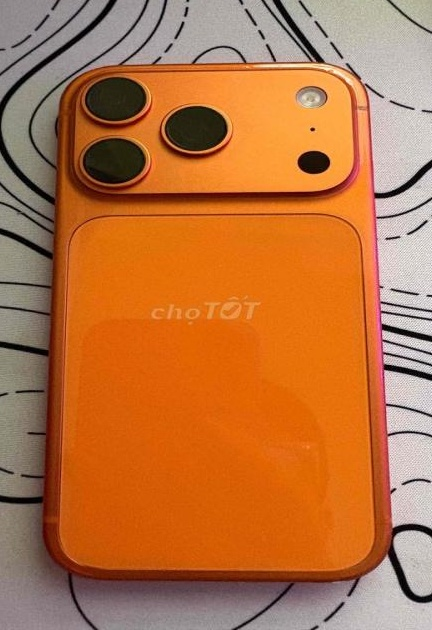scratch: (249, 58, 367, 93)
